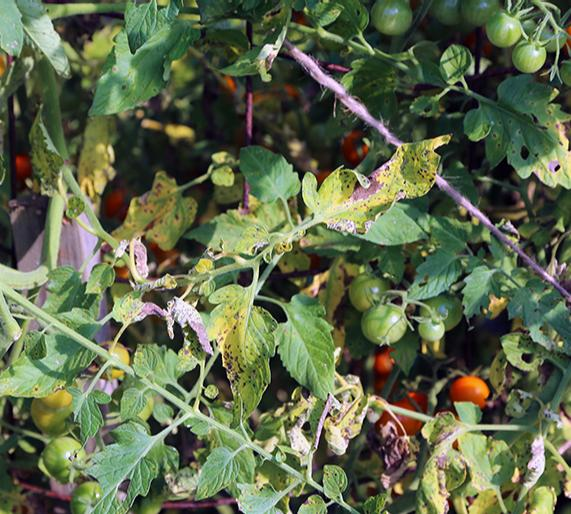Tomato Early blight leaf: (298, 133, 455, 237), (465, 79, 571, 190), (93, 18, 192, 117), (209, 285, 278, 415), (0, 341, 109, 400), (118, 177, 196, 246), (187, 209, 275, 252)
Tomato leaf: (272, 296, 341, 400)
